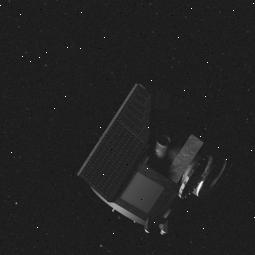cheops: (79, 84, 242, 243)
